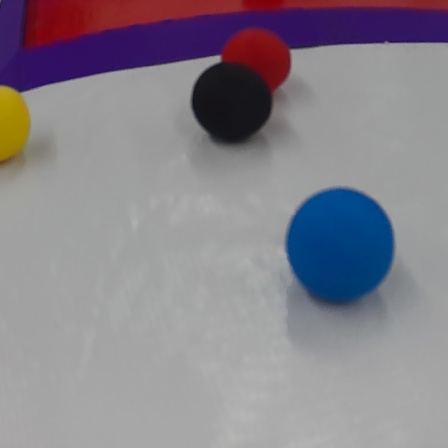black: (190, 63, 273, 143)
blue: (286, 185, 397, 308)
red: (223, 27, 294, 98)
yellow: (0, 76, 34, 166)
